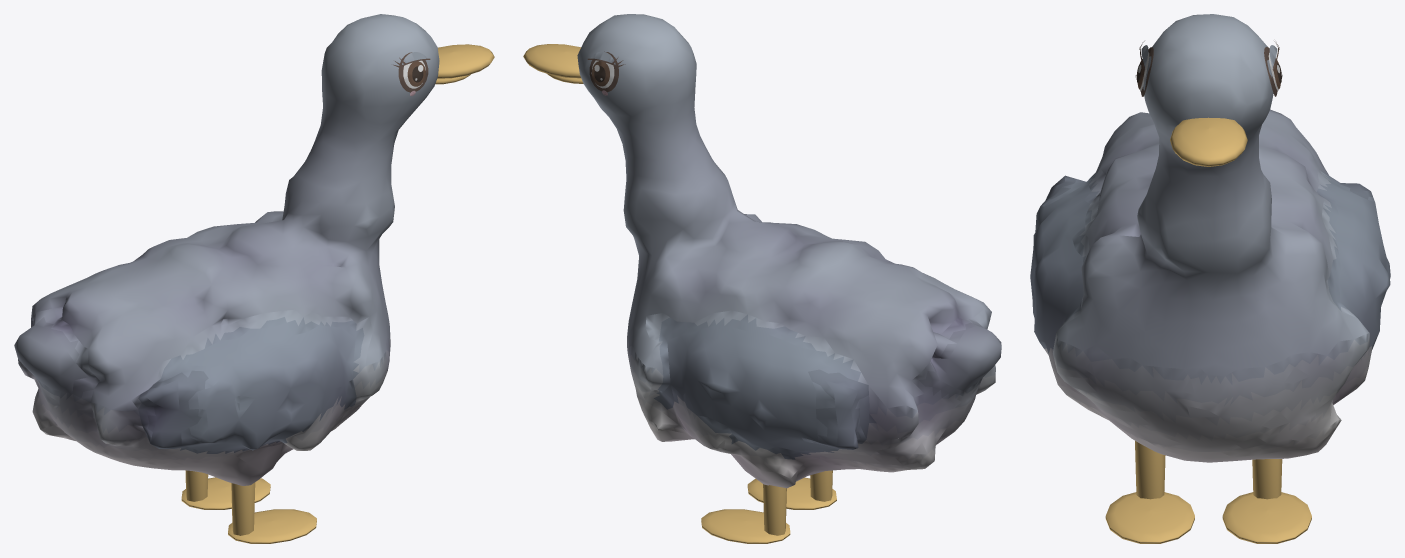
The model's file is storm_goose.glb.
The picture shows the model from 3 angles, left to right: view 1: azimuth 30°, elevation 25°; view 2: azimuth 150°, elevation 25°; view 3: azimuth 270°, elevation 25°; orthographic projection. The views are drawn at different scales.
Parts seen in each view (by area): view 1: storm_goose; view 2: storm_goose; view 3: storm_goose.
Boxes of the visible parts, bbox=[...] form: storm_goose: bbox=[14, 14, 494, 543]; storm_goose: bbox=[523, 14, 1001, 543]; storm_goose: bbox=[1030, 14, 1390, 543].
Bounding box in the file's own units: 0.7062 × 0.6639 × 0.3722.
